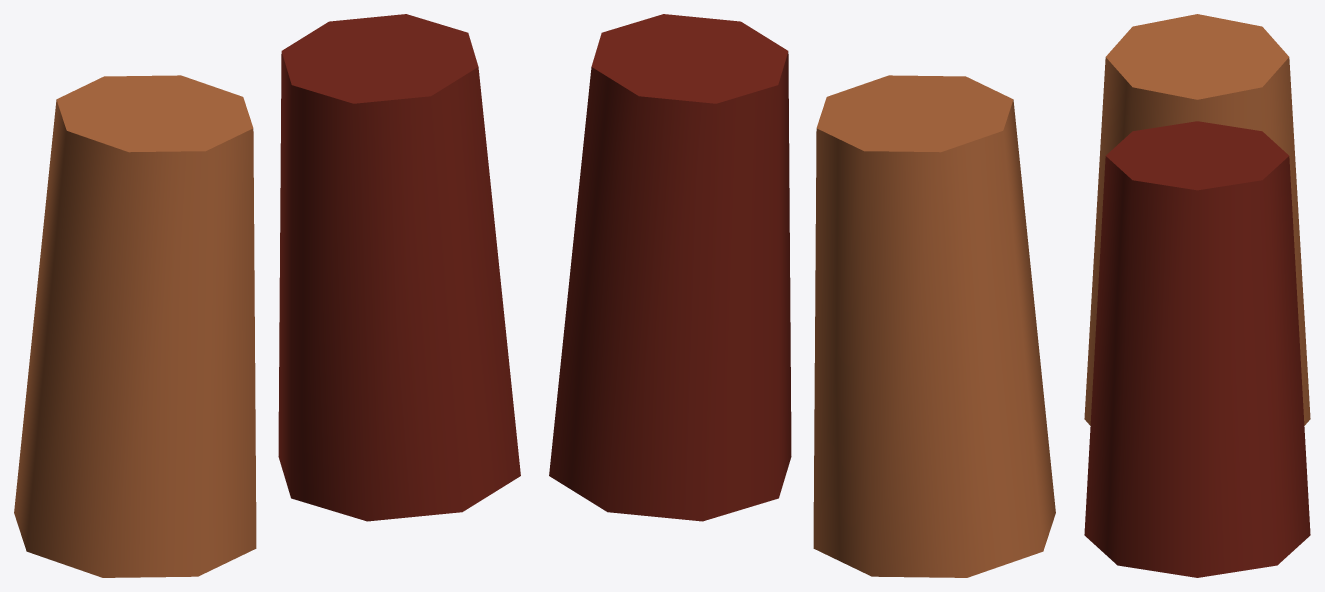
File: legs.glb
3 renders of one model, left to right at view 1: azimuth 30°, elevation 25°; view 2: azimuth 150°, elevation 25°; view 3: azimuth 270°, elevation 25°, orthographic. The views are drawn at different scales.
Parts seen in each view (by area): view 1: greave_-1, greave_1; view 2: greave_-1, greave_1; view 3: greave_1, greave_-1.
Part boxes in pixels (x1,y1,x2,y2): greave_-1: [14, 75, 256, 577]; greave_1: [278, 14, 520, 521]; greave_-1: [813, 75, 1055, 577]; greave_1: [549, 14, 791, 521]; greave_1: [1084, 121, 1310, 577]; greave_-1: [1084, 14, 1310, 425].
Bounding box in the file's own units: 0.7086 × 0.5938 × 0.32.
